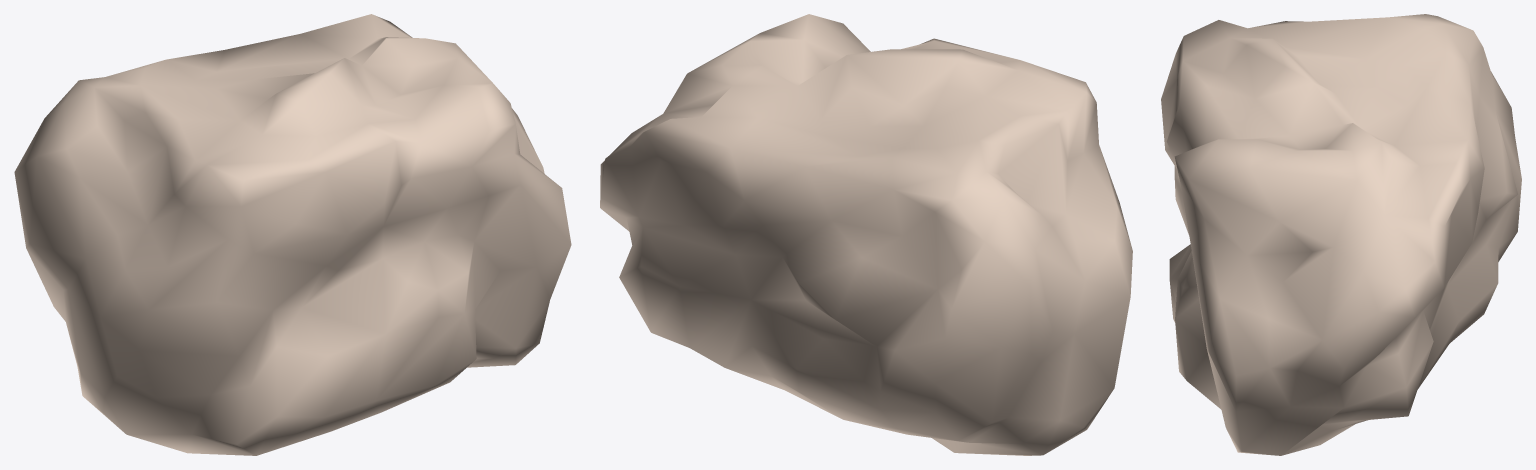
The model's file is 01_Rock.fbx.
3 renders of one model, left to right at view 1: azimuth 30°, elevation 25°; view 2: azimuth 150°, elevation 25°; view 3: azimuth 270°, elevation 25°, orthographic. The views are drawn at different scales.
Parts seen in each view (by area): view 1: cube-reduced; view 2: cube-reduced; view 3: cube-reduced.
Boxes of the visible parts, x1,y1,x2,y2 form: cube-reduced: (14,14,571,455); cube-reduced: (600,14,1132,455); cube-reduced: (1161,14,1521,455).
Bounding box in the file's own units: 234 × 162 × 158.
